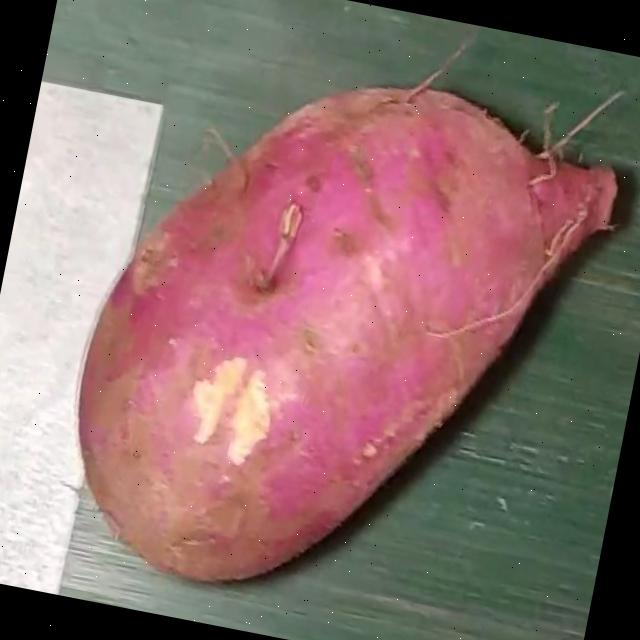Sweet Potato: (76, 83, 619, 581)
